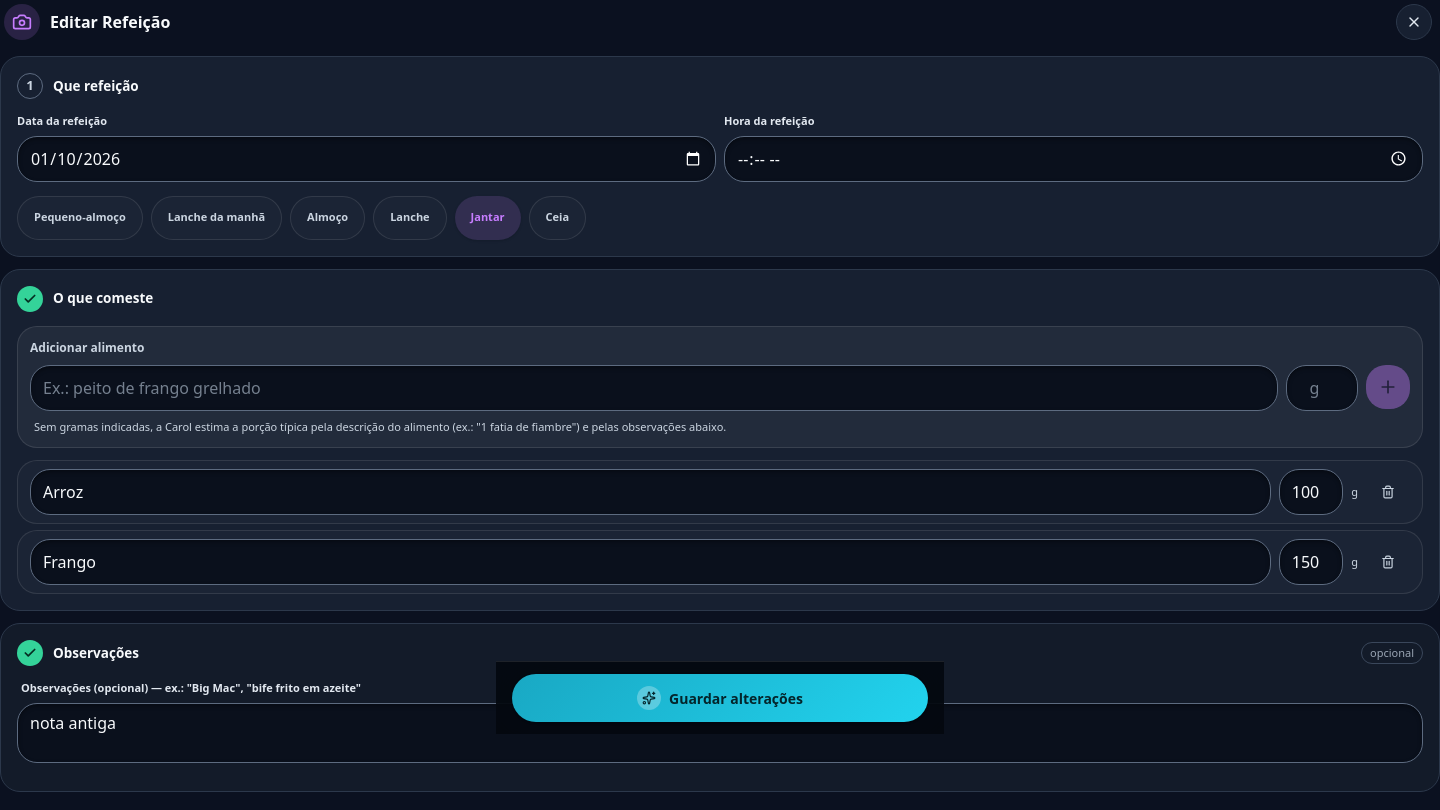
Scenario: MealRegistration — editar refeição existente › um erro do Coach não fecha o formulário nem perde as alterações
The width and height of the screenshot is (1440, 810).
Replace the text in the number field showing "100" with "120" at (1311, 492), box [1279, 469, 1343, 515]
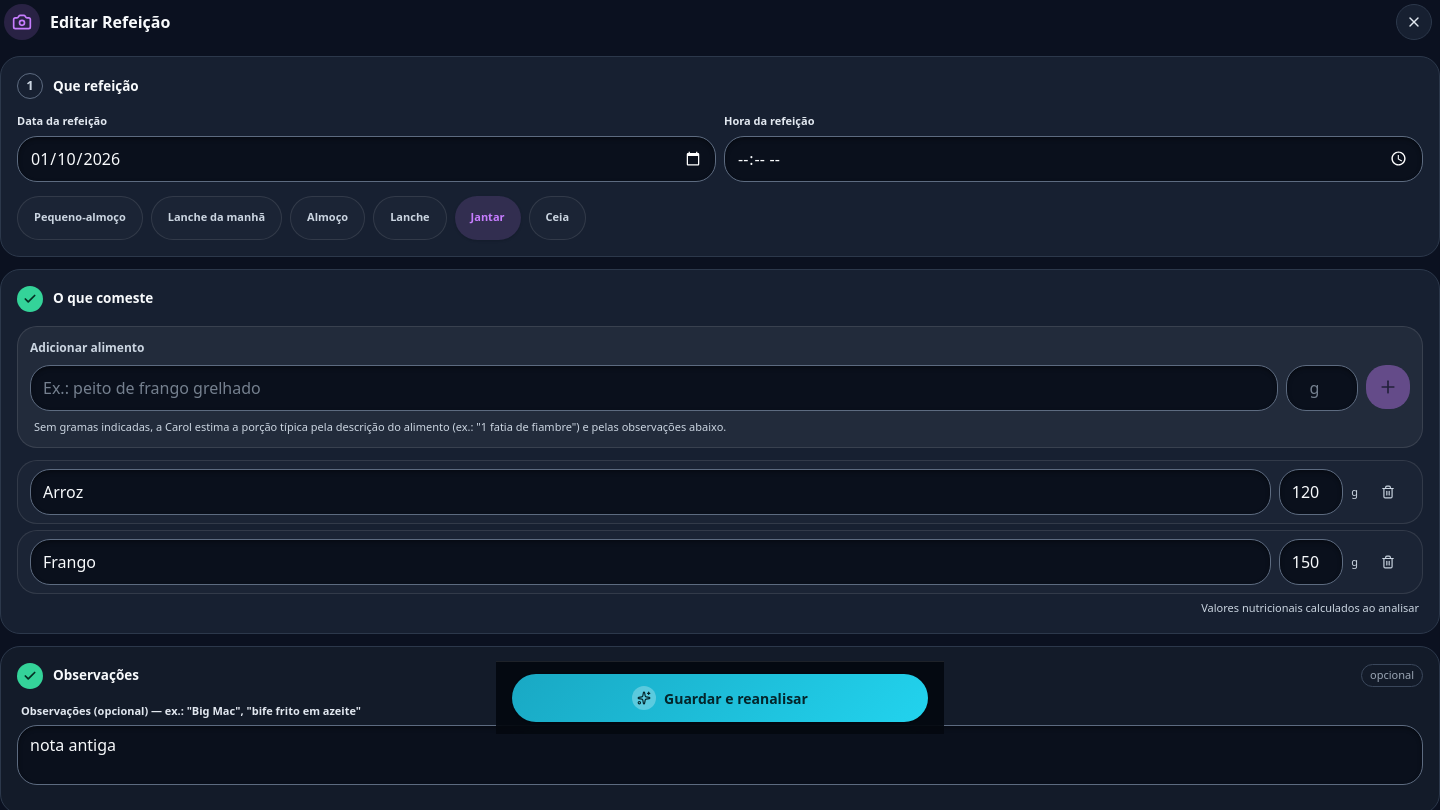
Click the button "Guardar e reanalisar".
click(720, 698)  # box [512, 674, 928, 722]
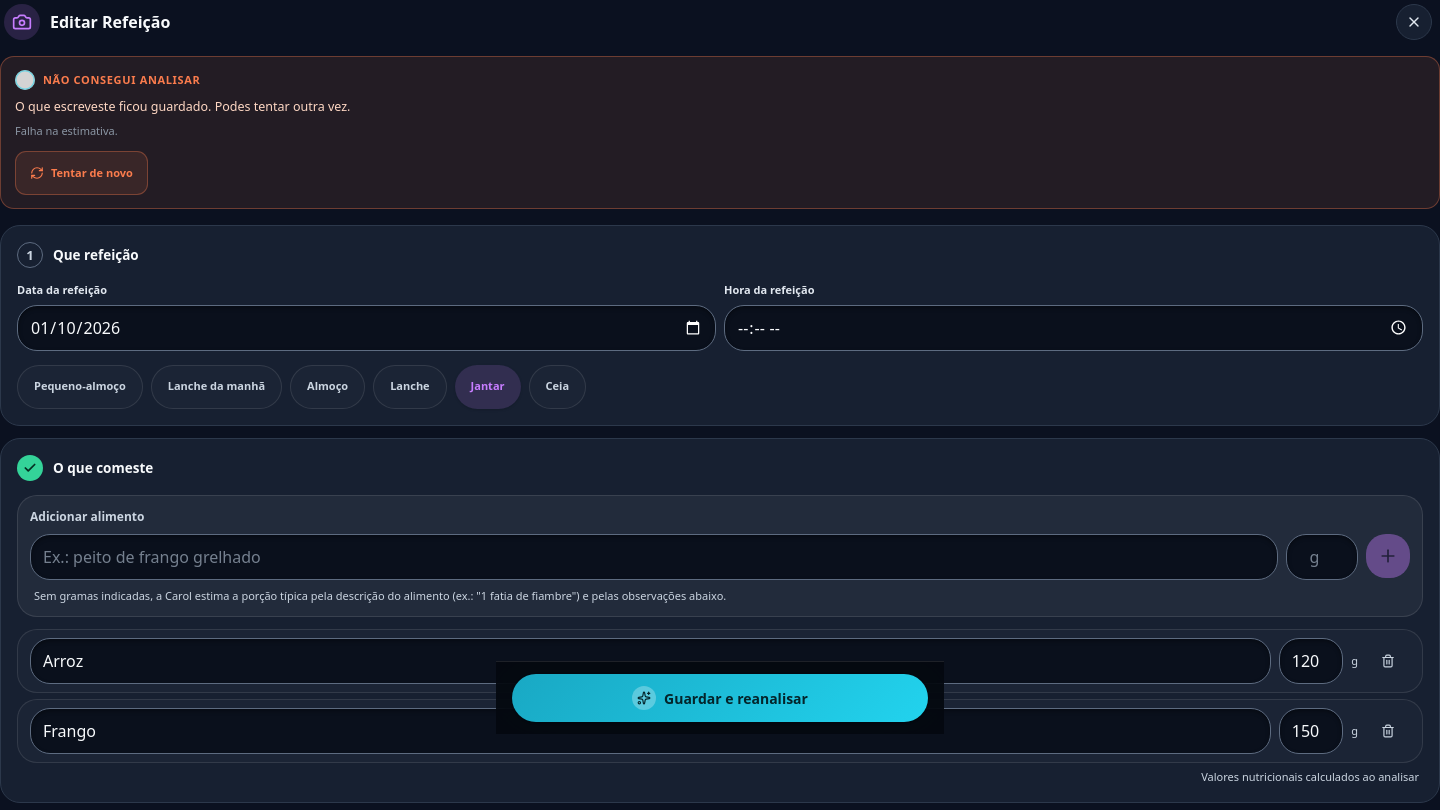
Expected: the text "Falha na estimativa." is shown, [15, 123, 118, 138]
